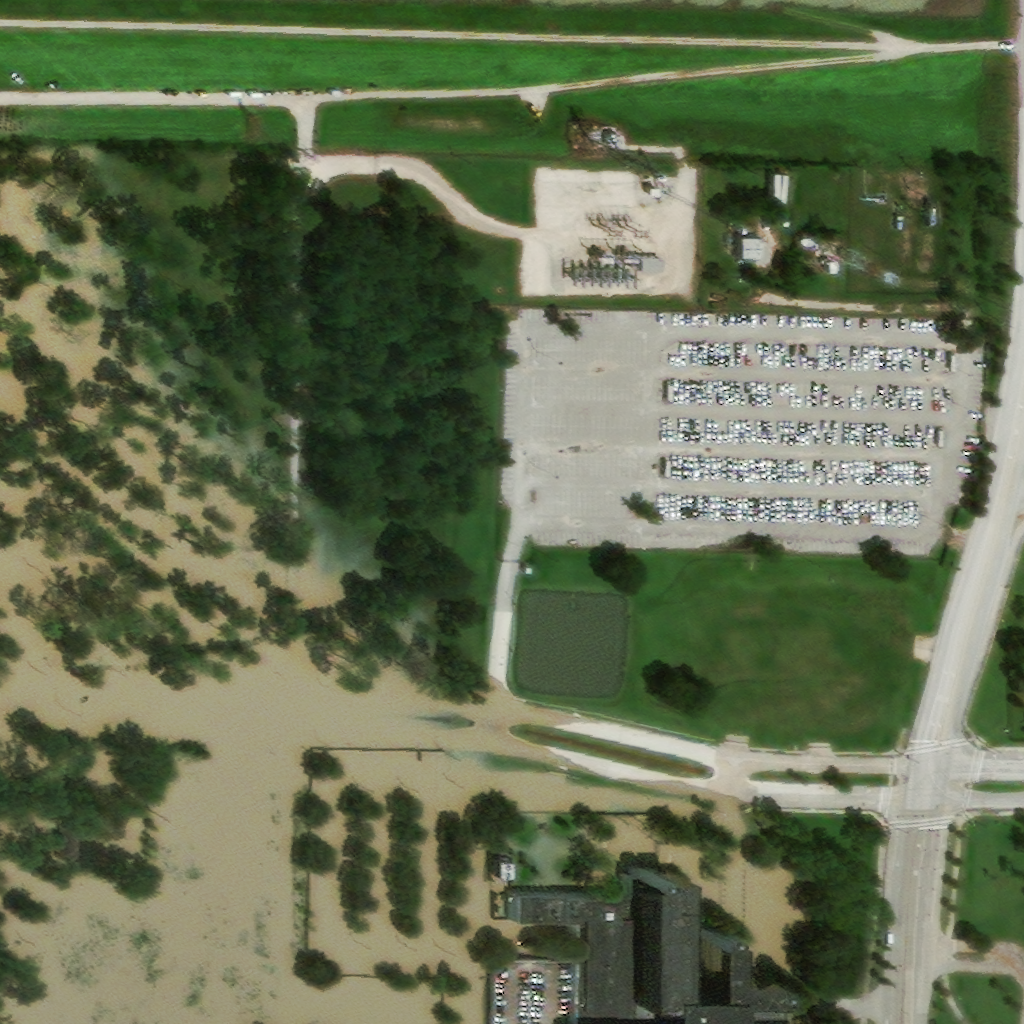destroyed: (59, 821, 85, 862), (63, 748, 91, 782), (356, 692, 372, 700)
major_damage: (506, 853, 797, 1023), (492, 853, 510, 879), (496, 909, 506, 919), (498, 895, 502, 904)
minor_damage: (523, 564, 532, 574)
no_damage: (743, 238, 765, 263), (640, 254, 664, 276), (780, 175, 791, 209), (933, 205, 943, 236), (775, 173, 783, 206), (826, 261, 838, 278), (900, 218, 910, 235), (954, 359, 962, 376), (804, 238, 815, 250), (649, 185, 661, 196), (941, 433, 948, 450), (785, 218, 793, 231), (807, 273, 816, 283), (776, 214, 782, 223), (809, 258, 815, 266)
